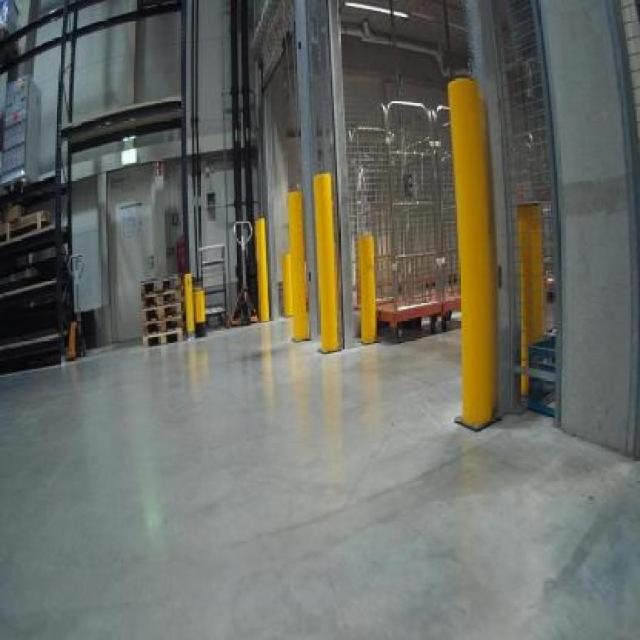pallet: (138, 309, 188, 342), (136, 326, 189, 354)
